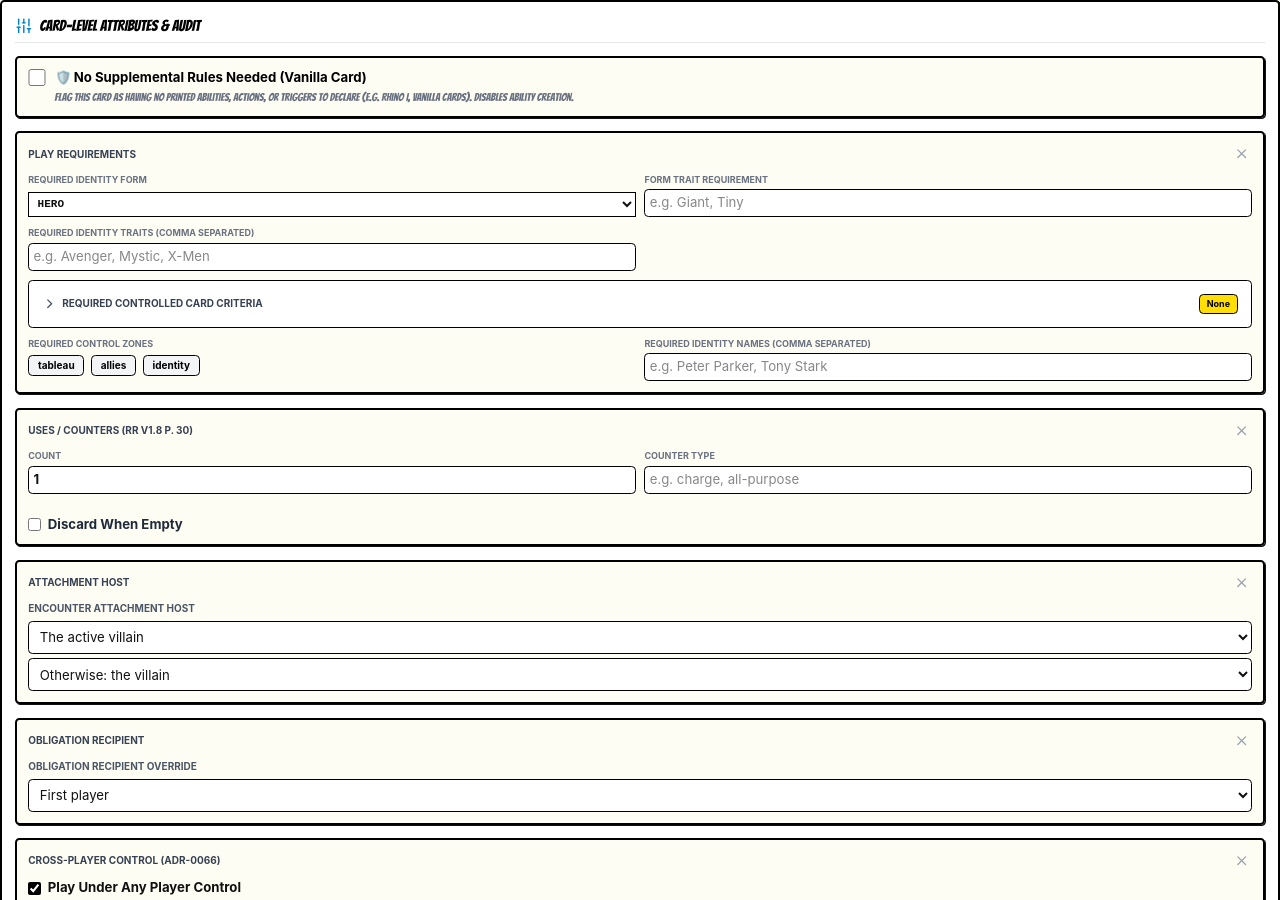
CardAttributesSection card-level chip bar › the remove control of the uses section deletes the key
The image size is (1280, 900).
Click the button named "Remove Uses / Counters (RR v1.8 p. 30)" at [1242, 430], box [1232,421,1252,440]
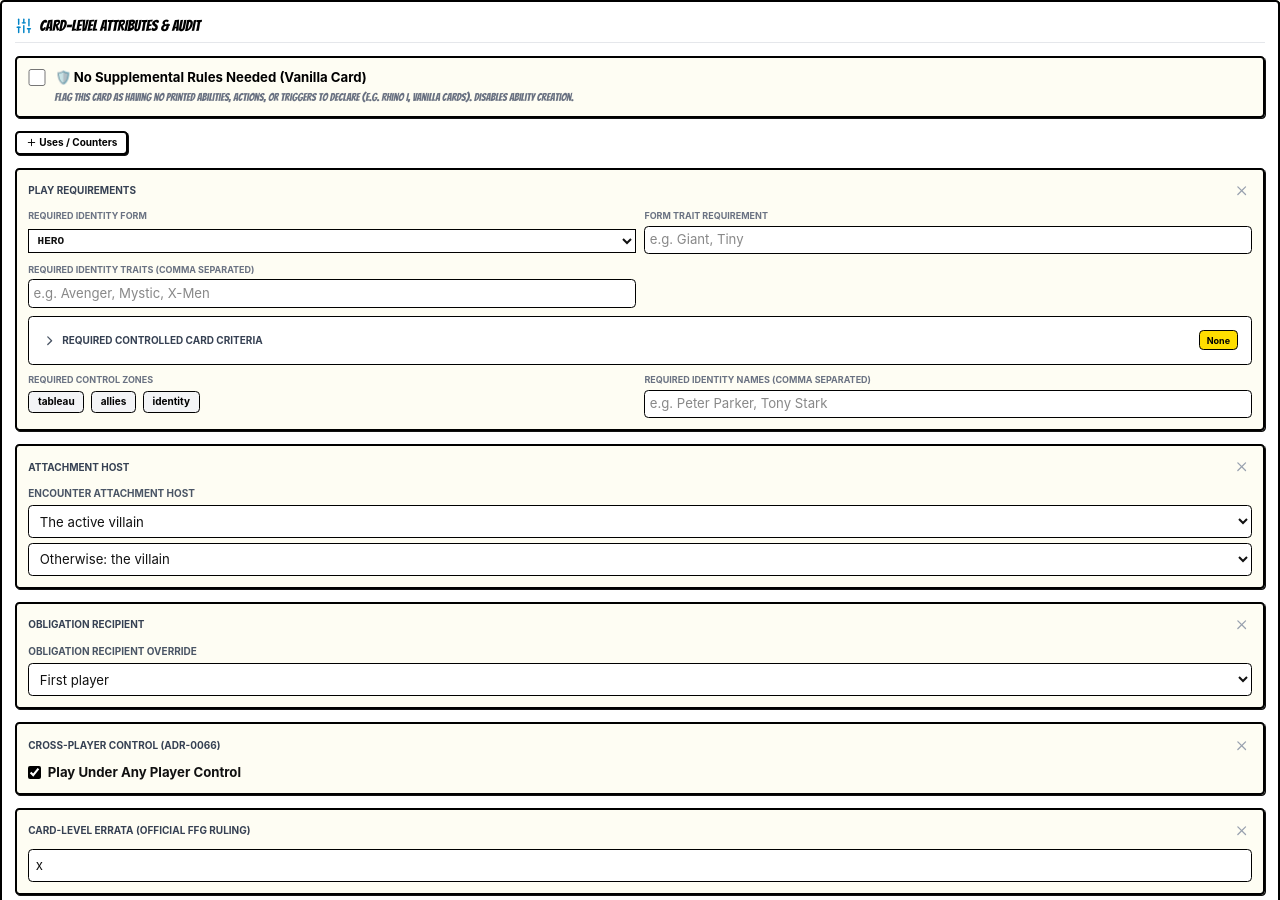
Expected: the button with test id "card-chip-add-uses" is shown, [15,131,128,155]
Result: the element with test id "card-section-uses" is gone
